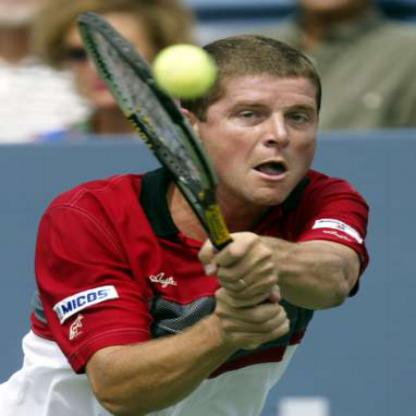face: (199, 42, 329, 209), (58, 1, 158, 109)
